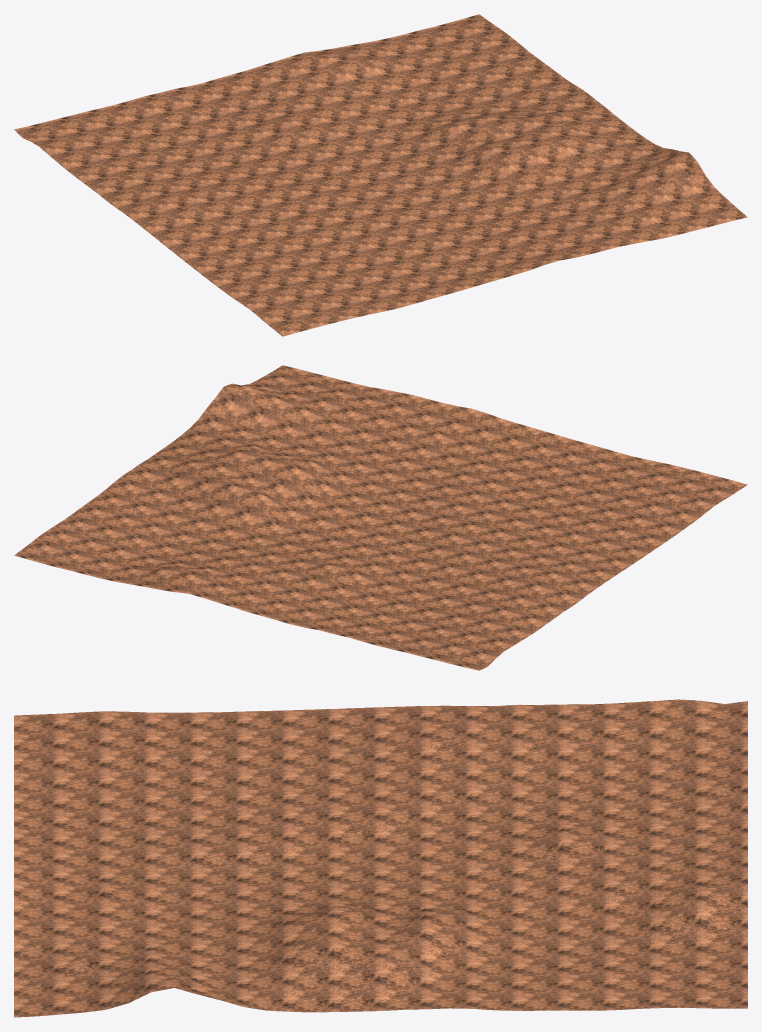
File: terrain_00_03.dae
3 views of the same model, one above another, from view 1: azimuth 30°, elevation 25°; view 2: azimuth 150°, elevation 25°; view 3: azimuth 270°, elevation 25° (orthographic). The views are drawn at different scales.
Parts seen in each view (by area): view 1: terrain_00_03-node; view 2: terrain_00_03-node; view 3: terrain_00_03-node.
Boxes of the visible parts, box(x1,y1,x2,y2) form: terrain_00_03-node: box(14, 14, 747, 336); terrain_00_03-node: box(14, 365, 747, 670); terrain_00_03-node: box(14, 699, 747, 1017).
Size of the model in its own units: 128 by 128 by 7.27.
Materials: 1 (1 with a texture image).
